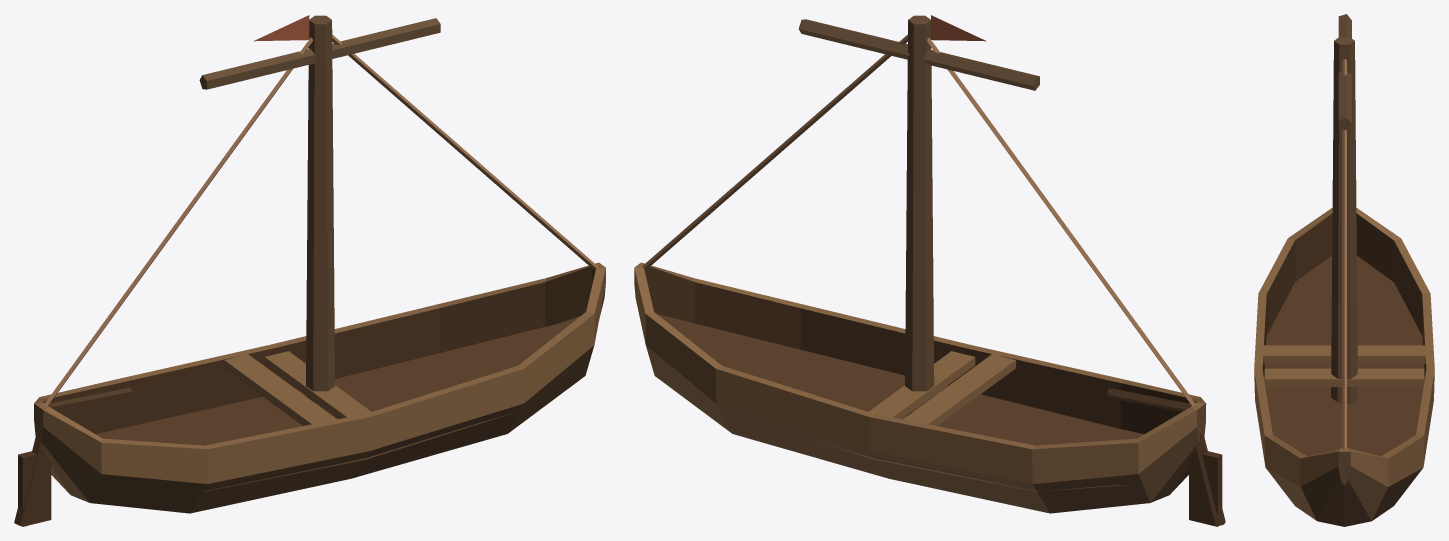
File: sailboat.glb
The picture shows the model from 3 angles, left to right: view 1: azimuth 30°, elevation 25°; view 2: azimuth 150°, elevation 25°; view 3: azimuth 270°, elevation 25°; orthographic projection. The views are drawn at different scales.
Visible parts, largest first — view 1: sailboat; view 2: sailboat; view 3: sailboat.
Part boxes in pixels (box(x1,y1,x2,y2)): sailboat: box(14, 15, 605, 526); sailboat: box(634, 15, 1225, 526); sailboat: box(1254, 14, 1434, 526).
Size of the model in its own units: 2.94 by 2.15 by 0.86.
